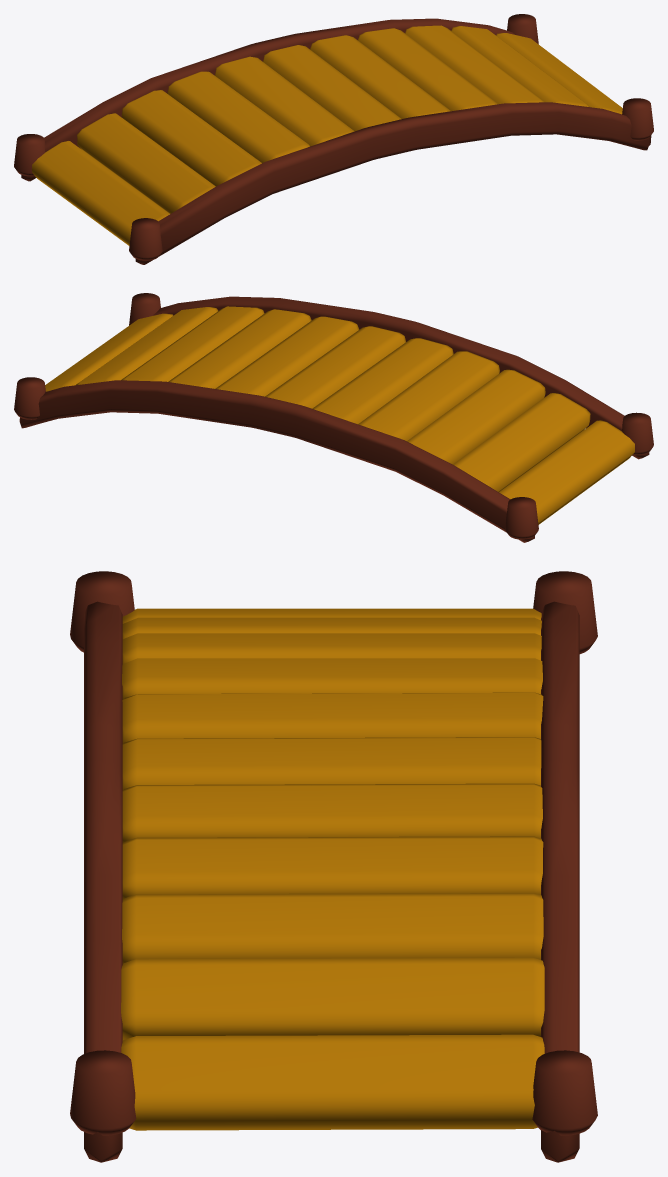
File: BridgeRiverCombined.fbx
3 renders of one model, top to bottom at view 1: azimuth 30°, elevation 25°; view 2: azimuth 150°, elevation 25°; view 3: azimuth 270°, elevation 25°, orthographic. The views are drawn at different scales.
Parts seen in each view (by area): view 1: BridgeRiver2; view 2: BridgeRiver2; view 3: BridgeRiver2.
Boxes of the visible parts, <box> form: BridgeRiver2: <box>14,14,653,264</box>; BridgeRiver2: <box>14,293,653,542</box>; BridgeRiver2: <box>70,571,597,1162</box>.
Bounding box in the file's own units: 7.07 × 1.14 × 3.11.
